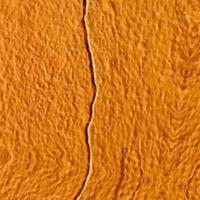crack: (60, 0, 112, 199)
